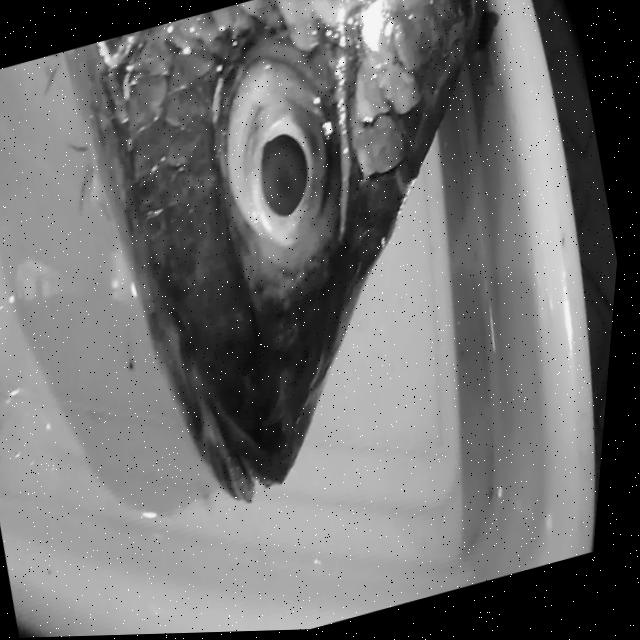Fresh: (158, 0, 389, 306)
